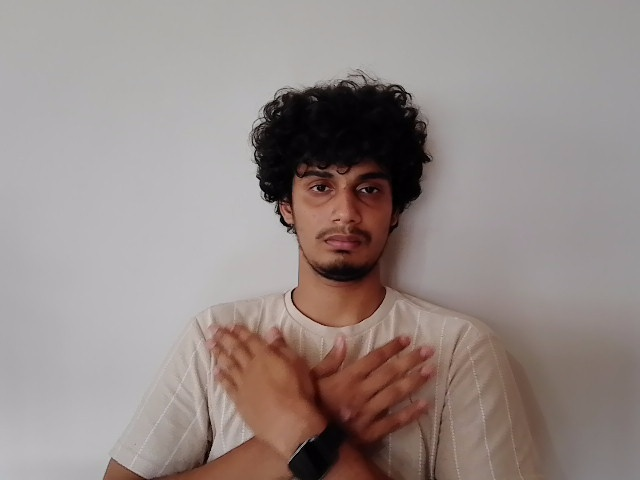relaxing: (204, 326, 445, 470)
